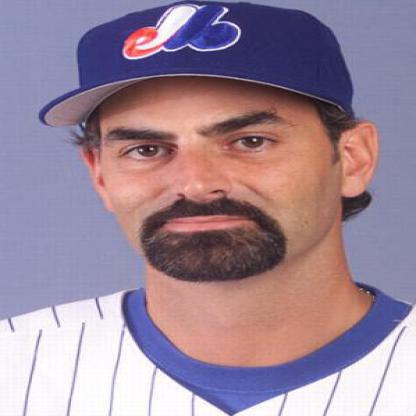face: (97, 38, 346, 284)
